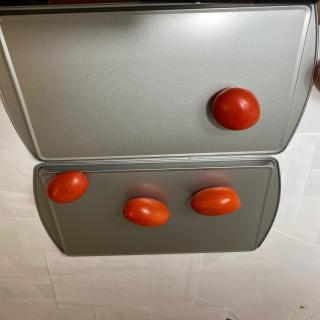Tomato: (212, 86, 260, 130), (191, 186, 241, 216), (122, 197, 170, 227), (46, 170, 88, 203)
